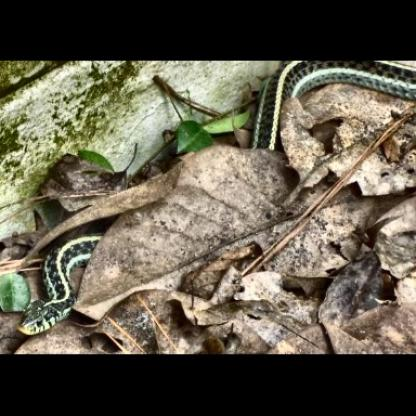Snake: (18, 233, 106, 335)
